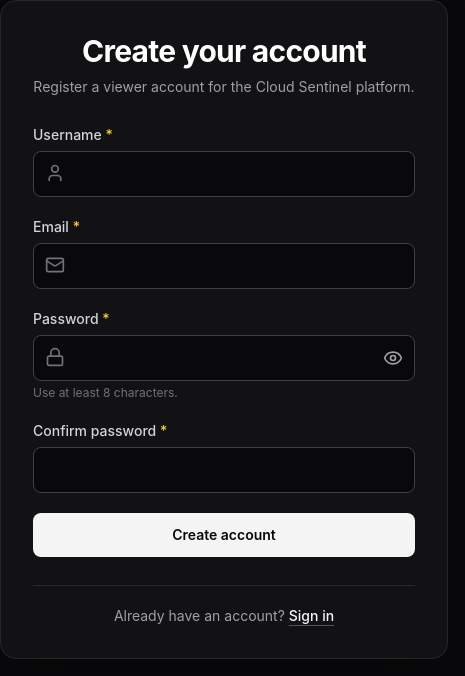
Test: RegisterForm › sends only the backend fields and shows a login link after success
This screenshot has width=465, height=676.
Type "sentinel-viewer" into the field labelled "Username *" at (224, 174), box left=33, top=151, right=415, bottom=197
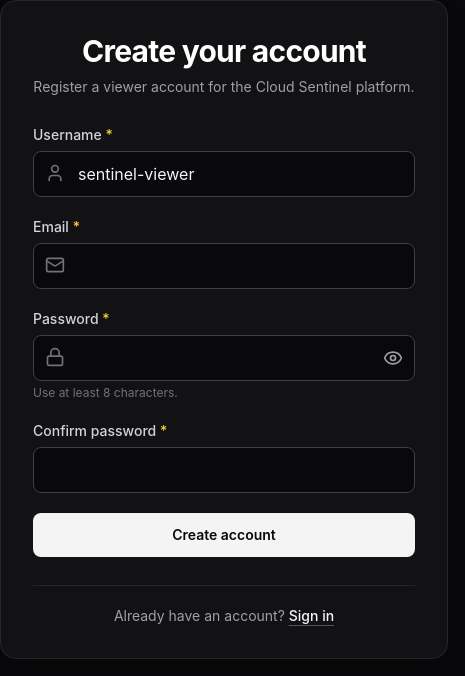
Type "sentinel@example.test" into the field labelled "Email *" at (224, 266), box left=33, top=243, right=415, bottom=289
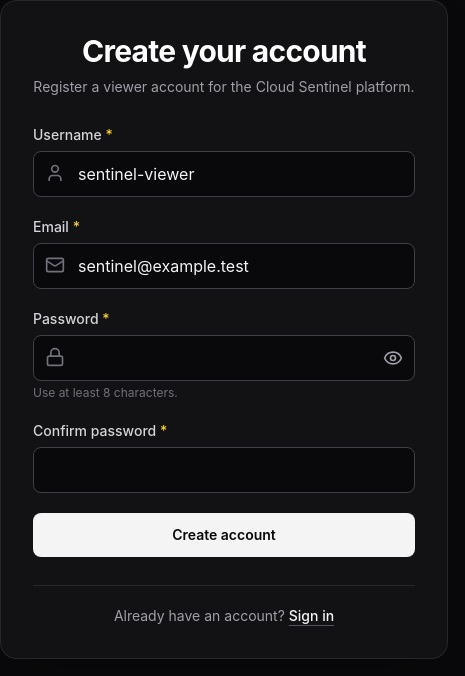
Type "strong-pass-123" into the password field labelled "Password *" at (224, 358), box left=33, top=335, right=415, bottom=381
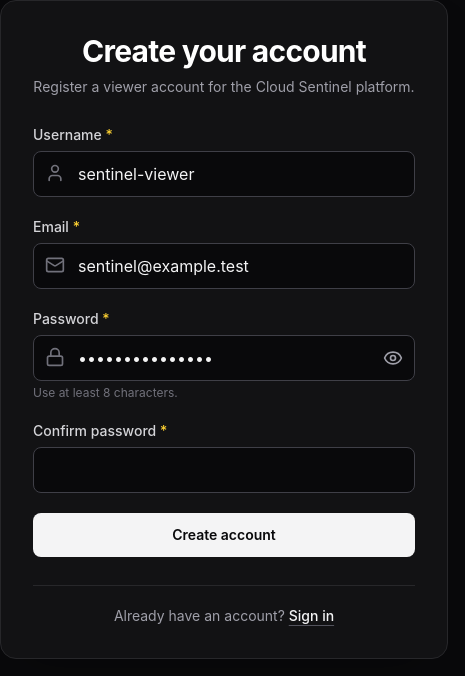
Type "strong-pass-123" into the password field labelled "Confirm password *" at (224, 470), box left=33, top=447, right=415, bottom=493
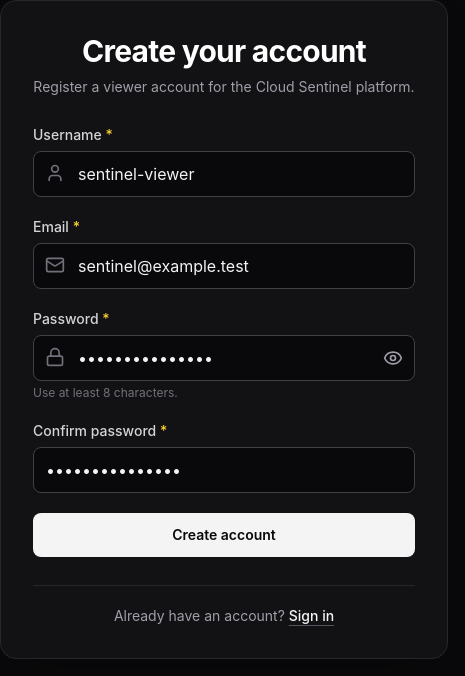
Click the button "Create account" at (224, 535), box left=33, top=513, right=415, bottom=557
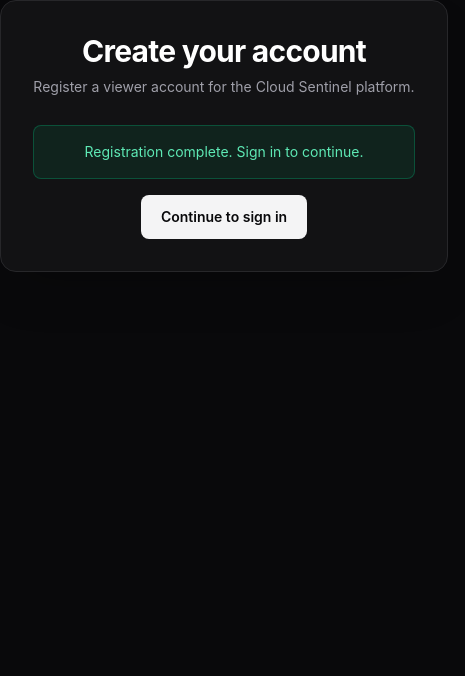
Expected: the message shows "Registration complete", left=84, top=143, right=363, bottom=160
